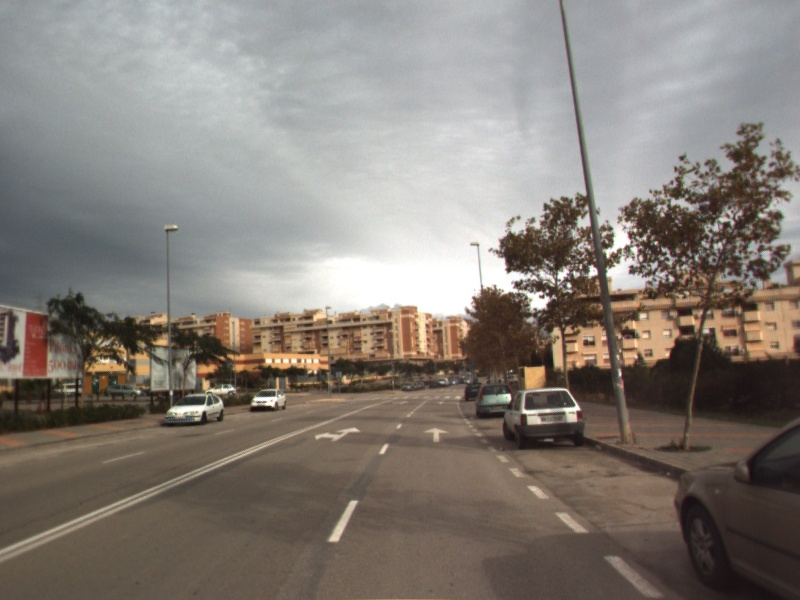STRAIGHT: (422, 425, 451, 444)
STRAIGHT_LEFT: (313, 424, 363, 444)
